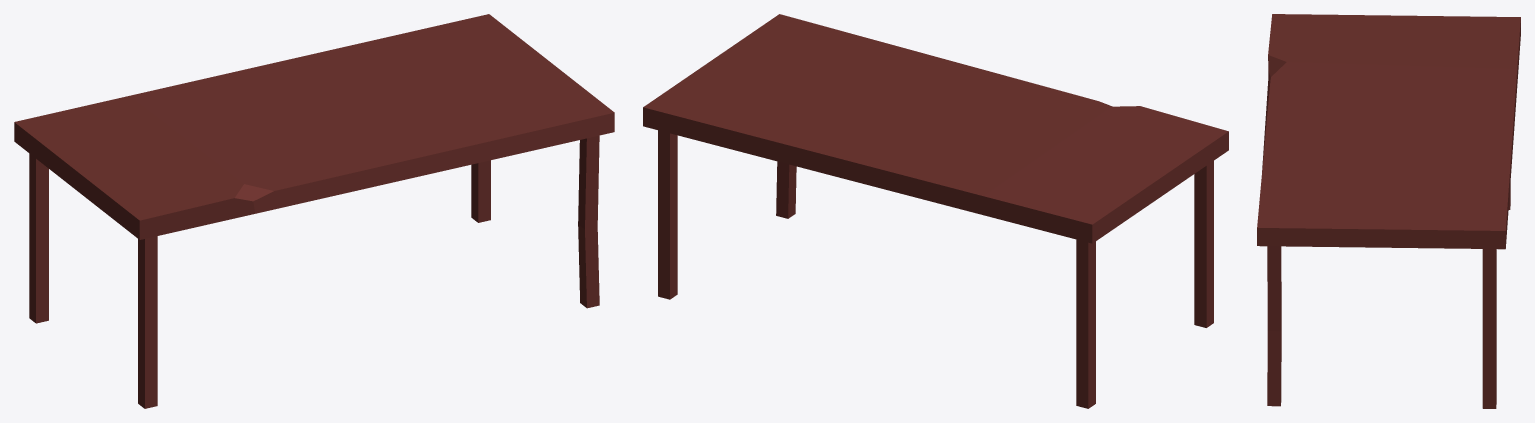
File: table.fbx
3 views of the same model, side by side, from view 1: azimuth 30°, elevation 25°; view 2: azimuth 150°, elevation 25°; view 3: azimuth 270°, elevation 25° (orthographic). The views are drawn at different scales.
Visible parts, largest first — view 1: table; view 2: table; view 3: table.
Part boxes in pixels (x1,y1,x2,y2): table: (14,14,614,408); table: (643,14,1228,408); table: (1257,14,1520,408).
Bounding box in the file's own units: 419 × 167 × 215.
